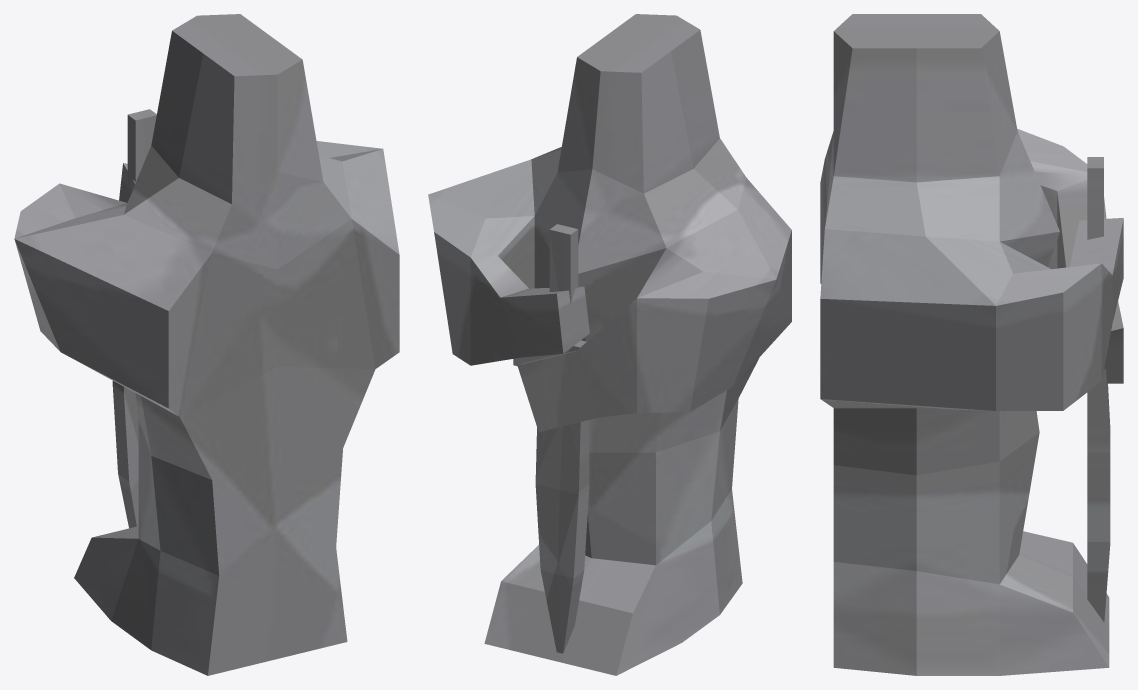
Rendered from statue.fbx.
3 views of the same model, side by side, from view 1: azimuth 30°, elevation 25°; view 2: azimuth 150°, elevation 25°; view 3: azimuth 270°, elevation 25° (orthographic). The views are drawn at different scales.
Parts seen in each view (by area): view 1: Cube_4; view 2: Cube_4; view 3: Cube_4.
Boxes of the visible parts, box(x1,y1,x2,y2) form: Cube_4: box(14, 14, 399, 675); Cube_4: box(428, 14, 791, 675); Cube_4: box(820, 14, 1123, 675).
Bounding box in the file's own units: 132 × 200 × 91.4.
1 material, 1 textured.
